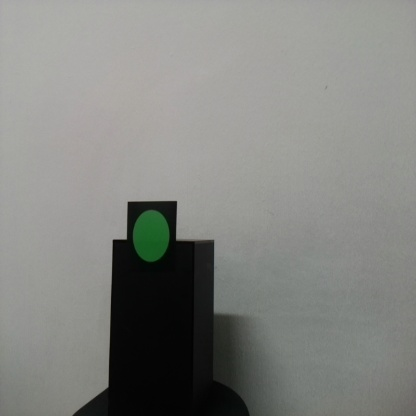id_5: (127, 201, 178, 280)
